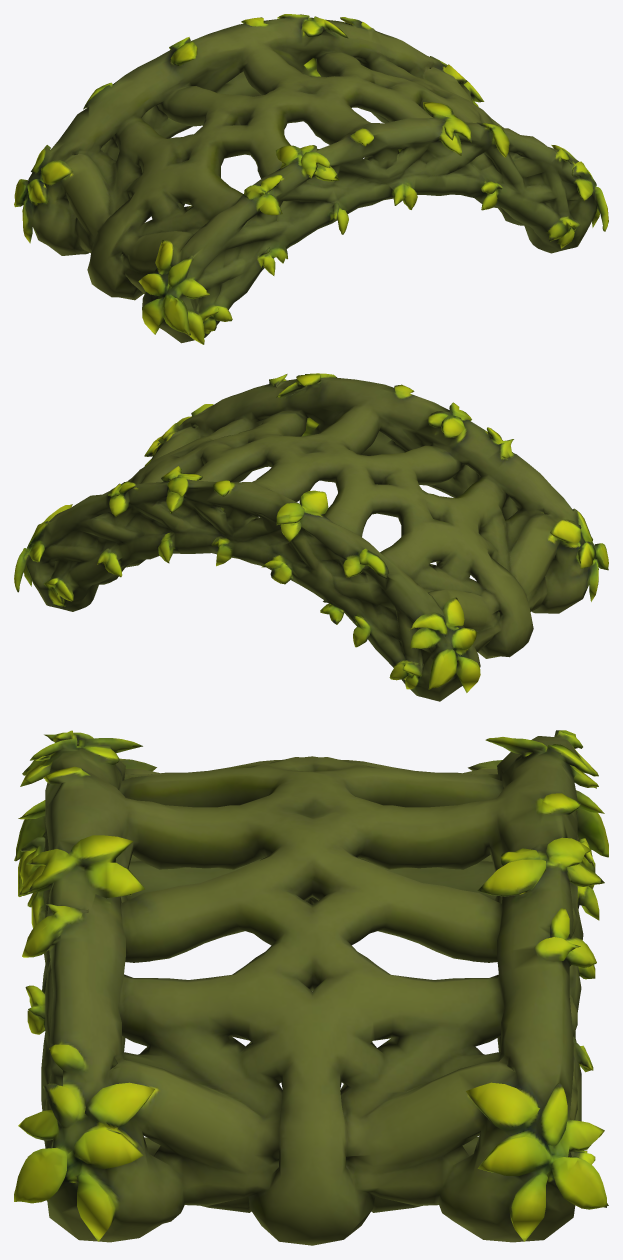
File: ivy.glb
3 views of the same model, one above another, from view 1: azimuth 30°, elevation 25°; view 2: azimuth 150°, elevation 25°; view 3: azimuth 270°, elevation 25° (orthographic). The views are drawn at different scales.
Visible parts, largest first — view 1: tripo_node_8c50abdd-8d5f-4837-9c56-4cc111376847; view 2: tripo_node_8c50abdd-8d5f-4837-9c56-4cc111376847; view 3: tripo_node_8c50abdd-8d5f-4837-9c56-4cc111376847.
Part boxes in pixels (left/top/right/bottom): tripo_node_8c50abdd-8d5f-4837-9c56-4cc111376847: left=14, top=14, right=608, bottom=344; tripo_node_8c50abdd-8d5f-4837-9c56-4cc111376847: left=14, top=373, right=608, bottom=701; tripo_node_8c50abdd-8d5f-4837-9c56-4cc111376847: left=14, top=730, right=608, bottom=1245.
Size of the model in its own units: 0.8979 by 0.331 by 0.592.
1 material, 1 textured.
